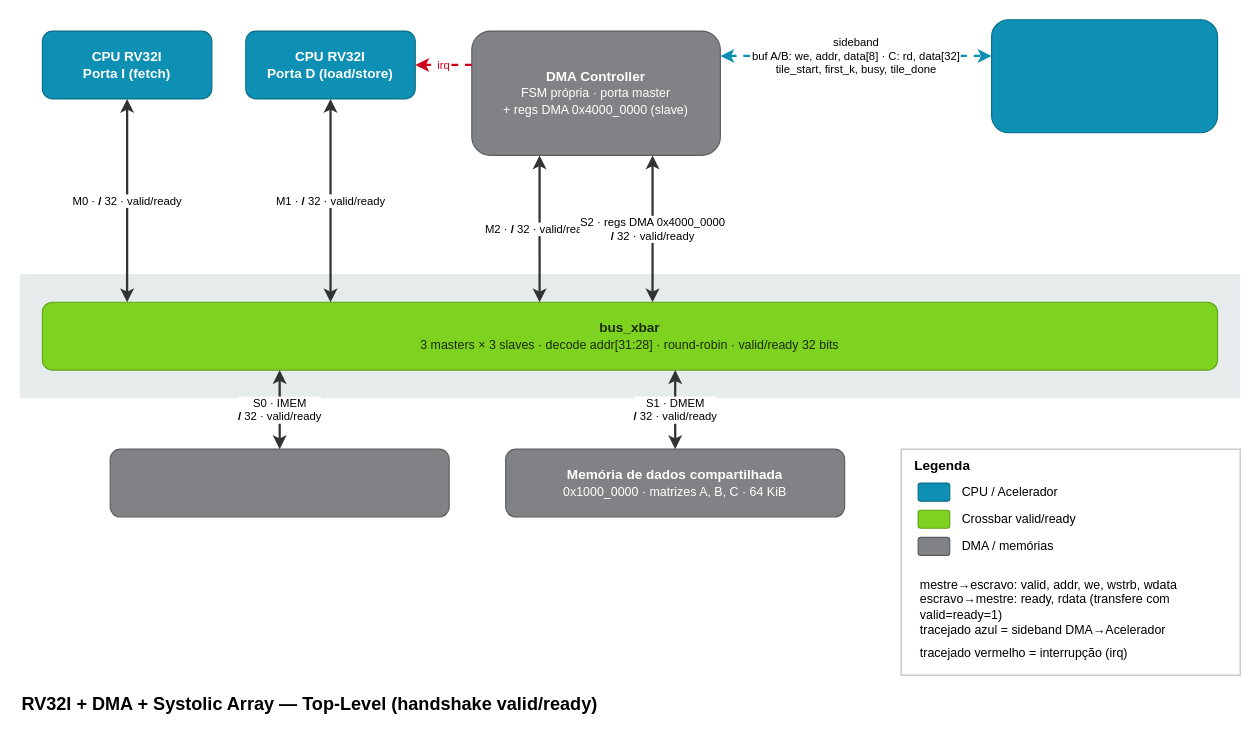
The diagram is 1260 pixels wide and 740 high, and some of its shapes have lost their labels. The shapes that lost their labels are listed below. From the top down, each one's box as (x1, y1, x2, y2) in pixels, then its label:
(990, 19, 1218, 133): Acelerador MatMul Buffers A/B/C + Systolic Array ARRAY_SIZE×ARRAY_SIZE (2/4/8)
(109, 448, 449, 517): Memória de instruções 0x0000_0000 · firmware · 64 KiB
